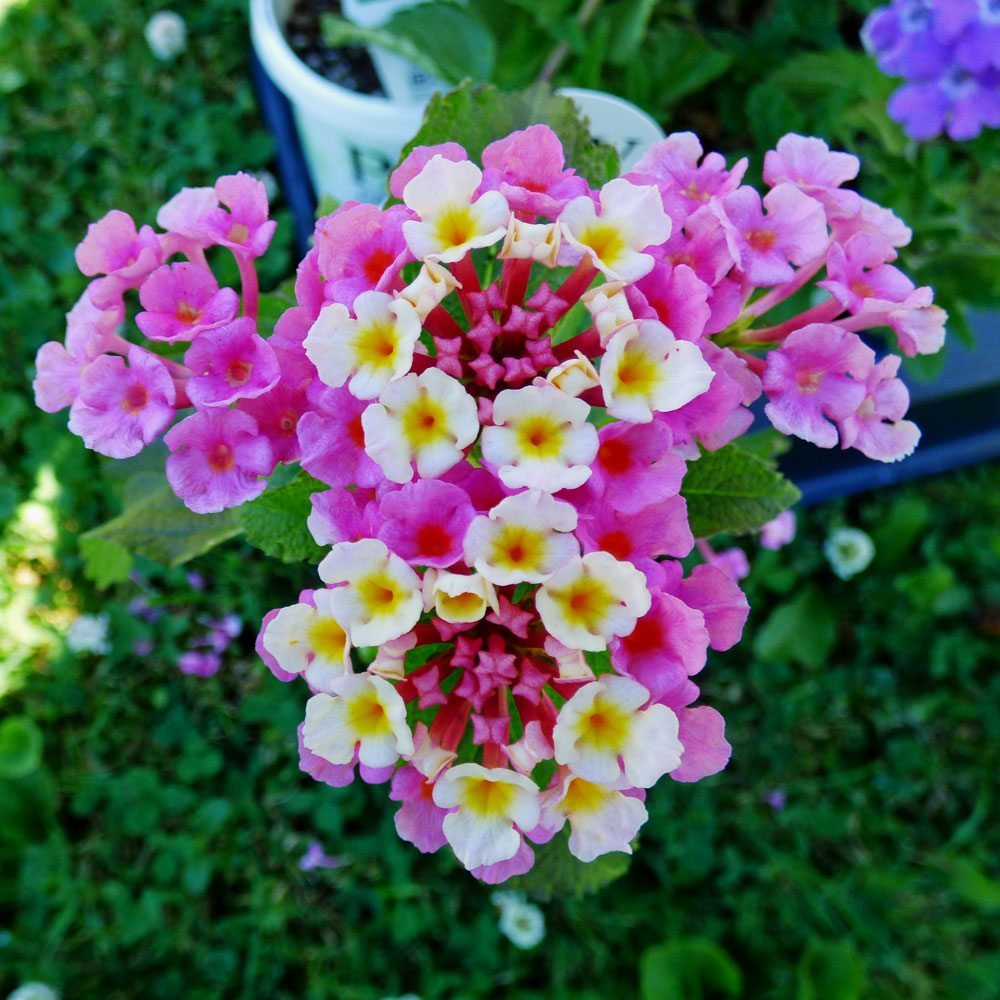lantana: (365, 369, 477, 478), (559, 679, 674, 781), (483, 387, 595, 485), (537, 554, 650, 649), (564, 181, 672, 280), (769, 327, 860, 443), (169, 409, 274, 509), (317, 545, 425, 642), (568, 493, 688, 578), (607, 323, 712, 419), (466, 493, 578, 581), (715, 192, 827, 279), (308, 295, 412, 388), (437, 762, 536, 859), (841, 347, 922, 463), (318, 206, 422, 295), (587, 420, 681, 516), (410, 158, 504, 253), (482, 129, 584, 216), (545, 775, 648, 861), (304, 680, 410, 763), (75, 356, 168, 450), (614, 596, 704, 690), (638, 133, 746, 210), (267, 603, 357, 692), (381, 484, 478, 561), (305, 389, 381, 477), (79, 214, 160, 294), (191, 324, 274, 402), (139, 266, 230, 334), (816, 246, 911, 310), (200, 180, 278, 254)
